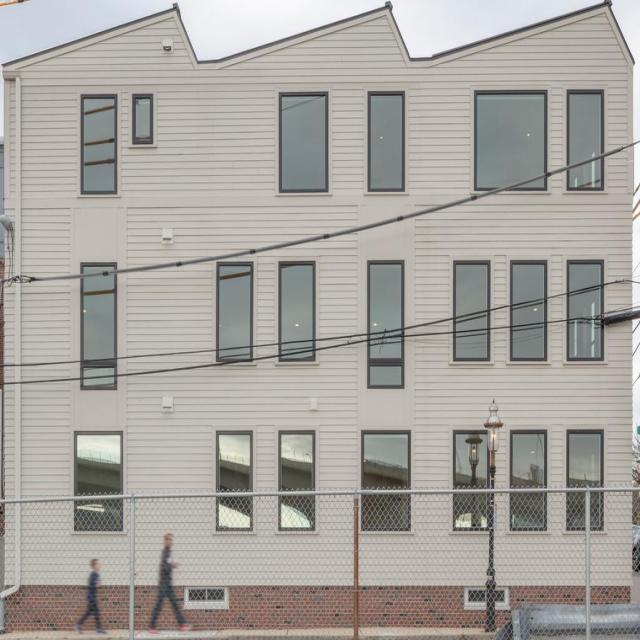window: (474, 90, 549, 194), (365, 260, 404, 387), (78, 261, 116, 386), (362, 432, 410, 529), (280, 93, 328, 189), (76, 435, 124, 530), (79, 91, 120, 190), (367, 91, 407, 190), (217, 262, 257, 361), (278, 428, 316, 531), (567, 430, 605, 530), (454, 432, 490, 536), (567, 92, 605, 190), (452, 261, 490, 359), (511, 261, 547, 364), (565, 261, 603, 358), (509, 433, 547, 530), (278, 262, 314, 362), (216, 431, 252, 530), (133, 94, 153, 147)
